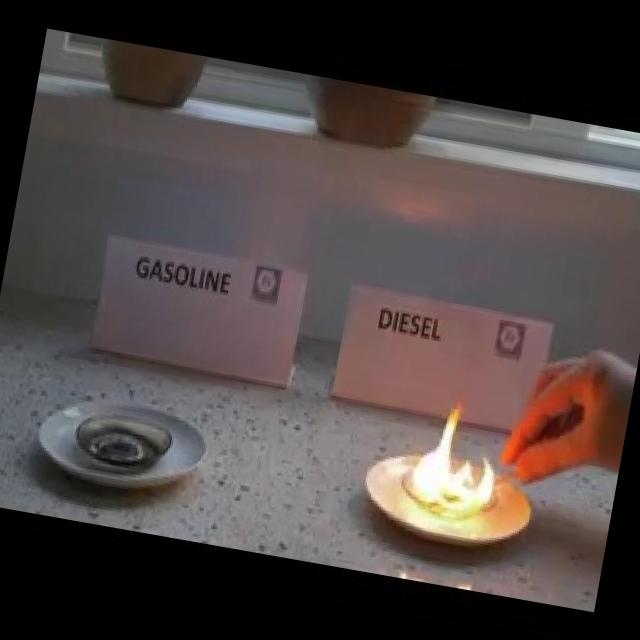Fire: (402, 390, 510, 520)
